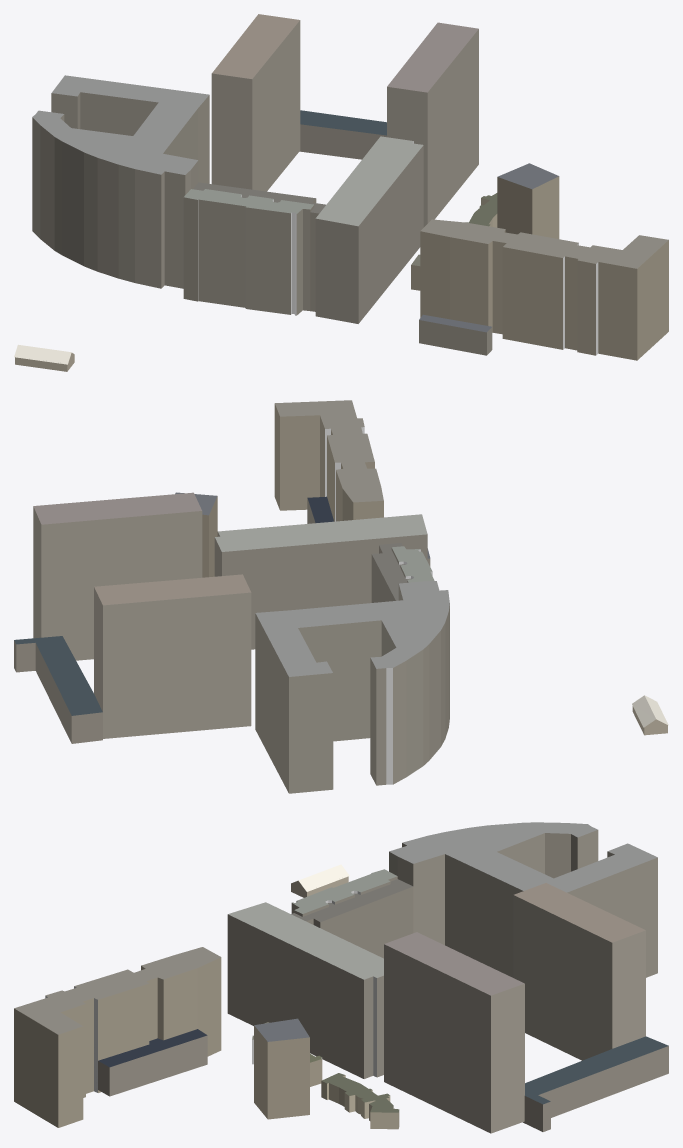
The picture shows the model from 3 angles, top to bottom: view 1: azimuth 30°, elevation 25°; view 2: azimuth 150°, elevation 25°; view 3: azimuth 270°, elevation 25°; orthographic projection. The views are drawn at different scales.
Parts seen in each view (by area): view 1: tuile; view 2: tuile; view 3: tuile.
Part boxes in pixels (box(x1,y1,x2,y2)): tuile: box(14, 14, 668, 371); tuile: box(14, 400, 668, 793); tuile: box(14, 822, 668, 1133).
Size of the model in its own units: 255 by 66.04 by 263.
